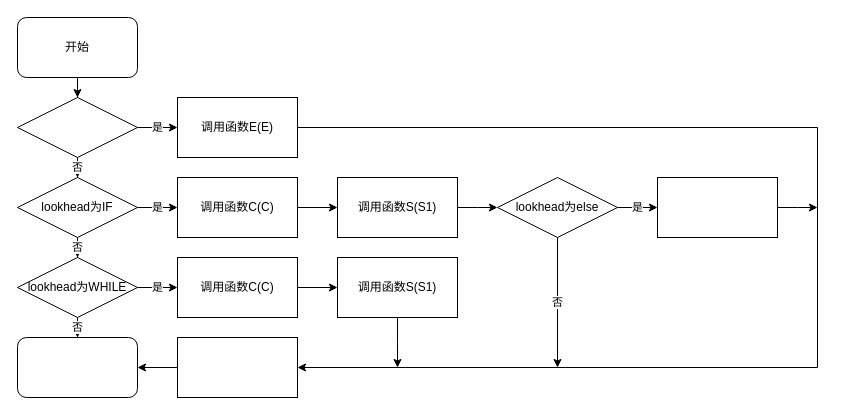
Image size: 843x415. Some labels were removed from this diagram. The shapes that lost their labels are listed below. From the top down, each one's centre as x and y in pixels, then its label:
At point (77, 127): "lookhead为IDN".
At point (717, 207): "再调用函数S(S2)".
At point (77, 367): "结束".
At point (237, 367): "生成S.code".
